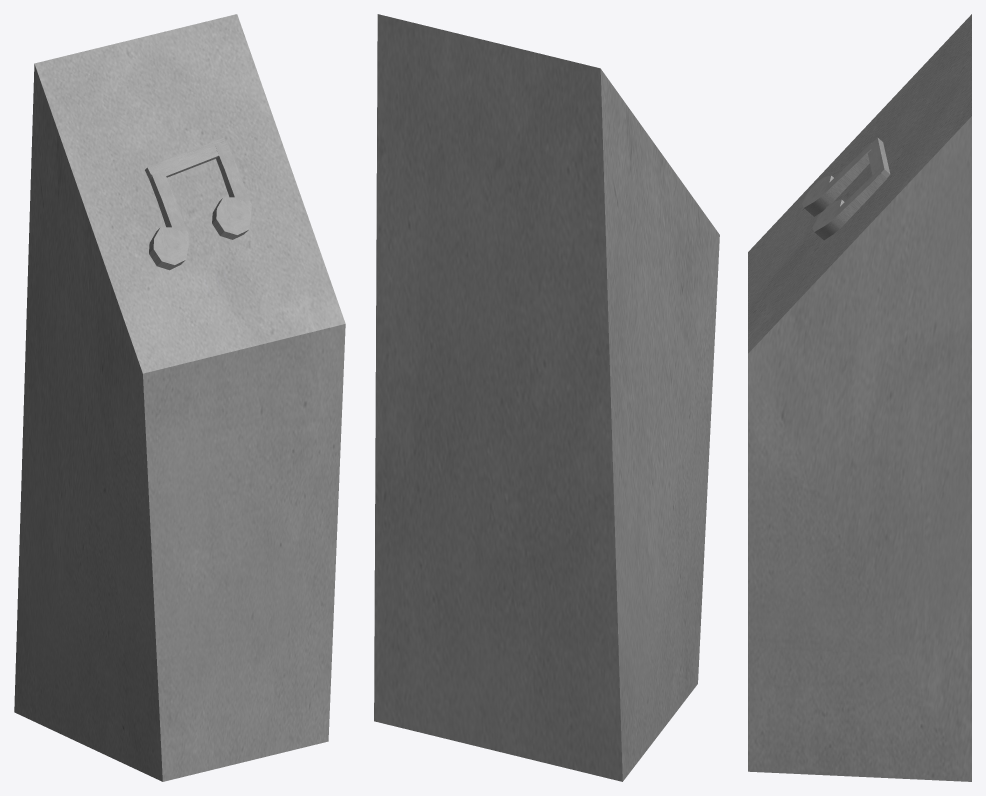
File: Obstacle3.fbx
3 renders of one model, left to right at view 1: azimuth 30°, elevation 25°; view 2: azimuth 150°, elevation 25°; view 3: azimuth 270°, elevation 25°, orthographic. The views are drawn at different scales.
Parts seen in each view (by area): view 1: Object11; view 2: Object11; view 3: Object11.
Part boxes in pixels (x1,y1,x2,y2): Object11: [14, 14, 345, 781]; Object11: [374, 14, 719, 781]; Object11: [748, 14, 971, 781].
Size of the model in its own units: 3.83 by 10.43 by 3.18.
1 material, 1 textured.
